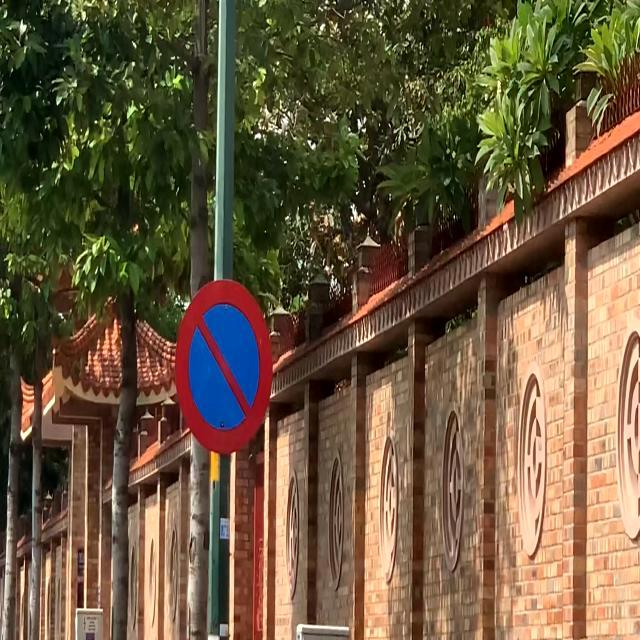Cam do xe: (168, 273, 278, 462)
